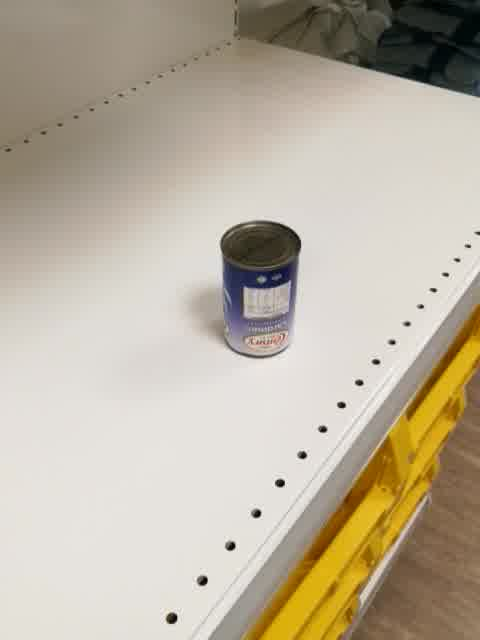sardine: (217, 220, 303, 361)
